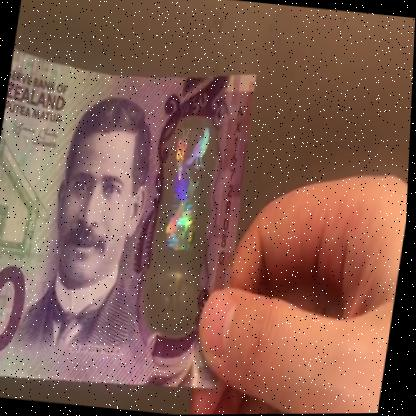50F: (148, 117, 224, 323)
